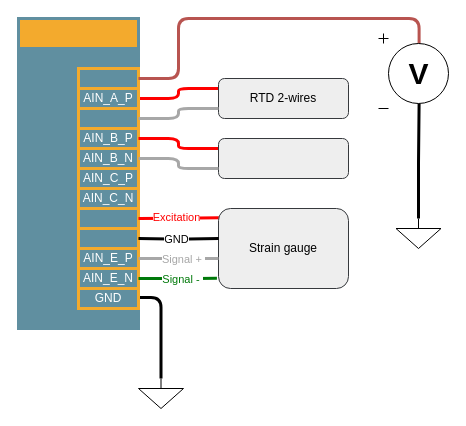
Some shapes in this 466 by 426 pixel diagram are drawn without their labels. The shapes that lost their labels are listed below. From the top down, each one's centre as x and y in pixels, then its label:
At (78,33): "OI-AnalogLS".
At (108,78): "VIN".
At (108,118): "AIN_A_N".
At (283,158): "Thermocouple".
At (108,218): "AIN_D_P".
At (108,238): "AIN_D_N".
